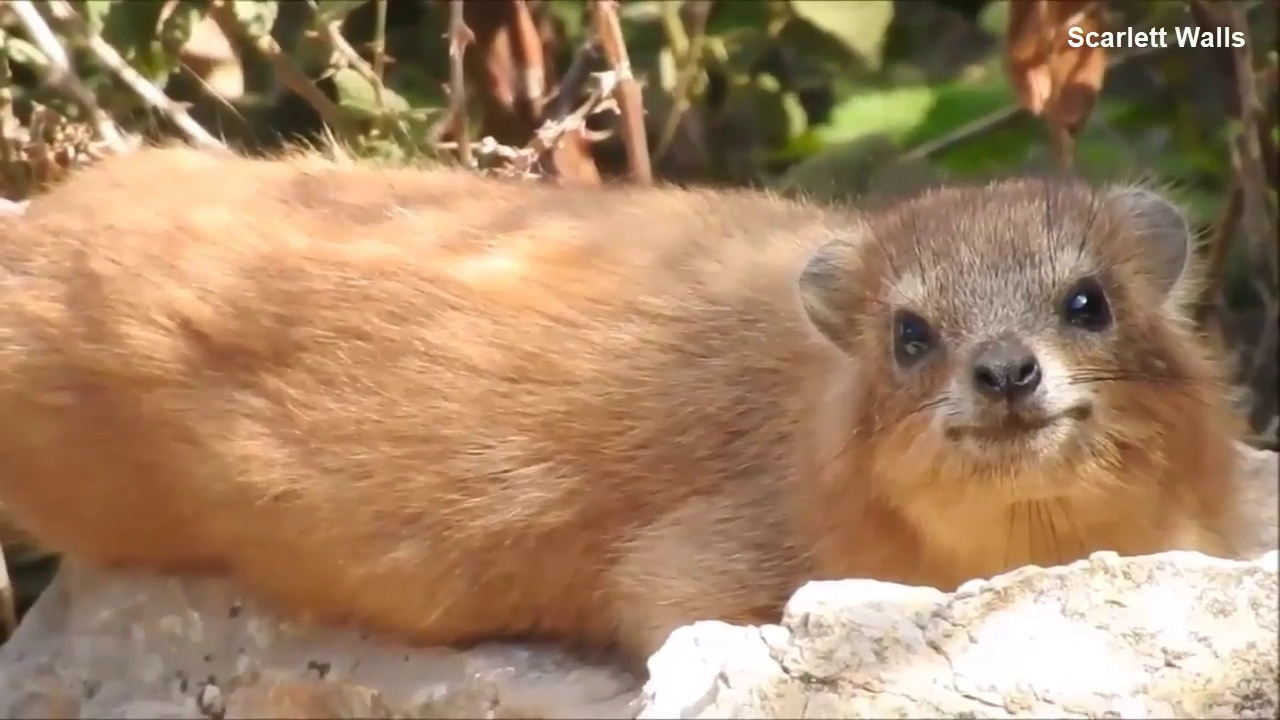Rock Hyrex: (1, 145, 1228, 677)
